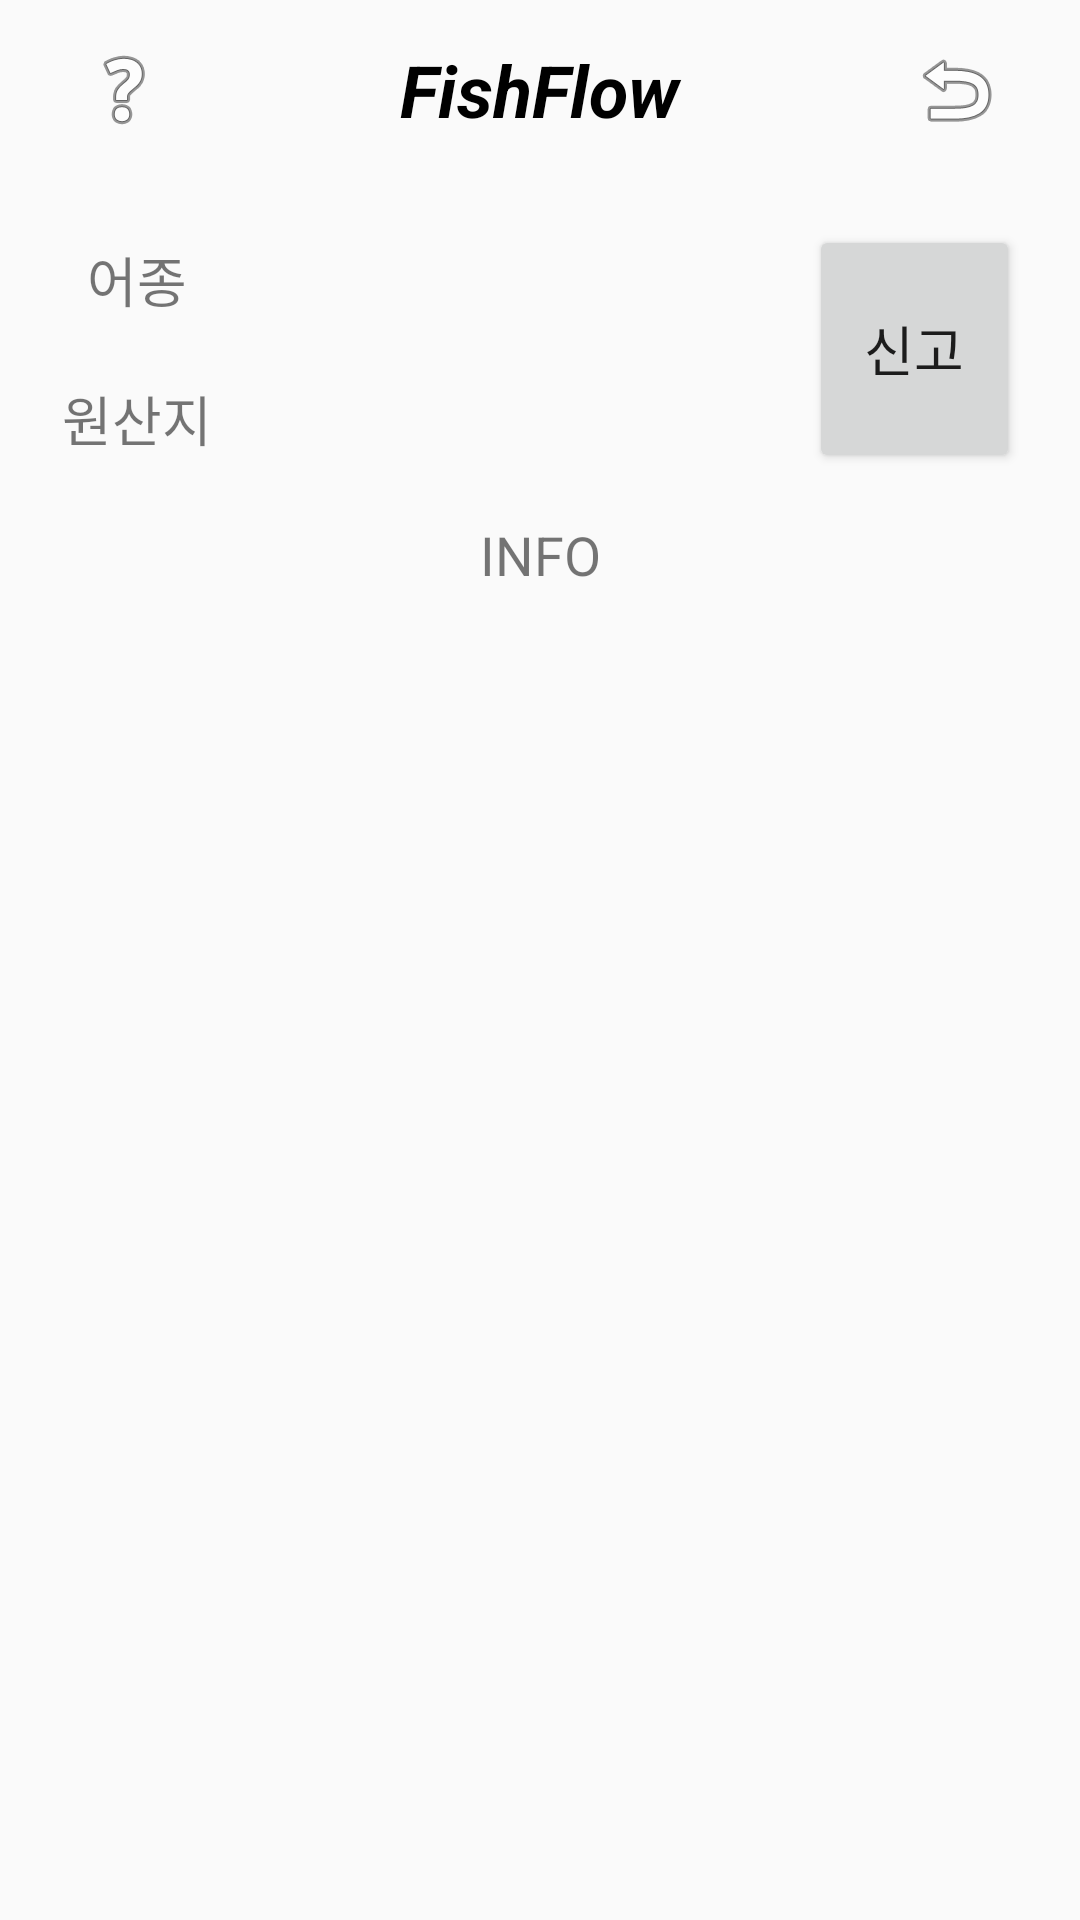

Icons on this 1080w x 1920h Android screen, each with the point to tap as [x,y]:
help: [124,90]
revert: [957,90]
